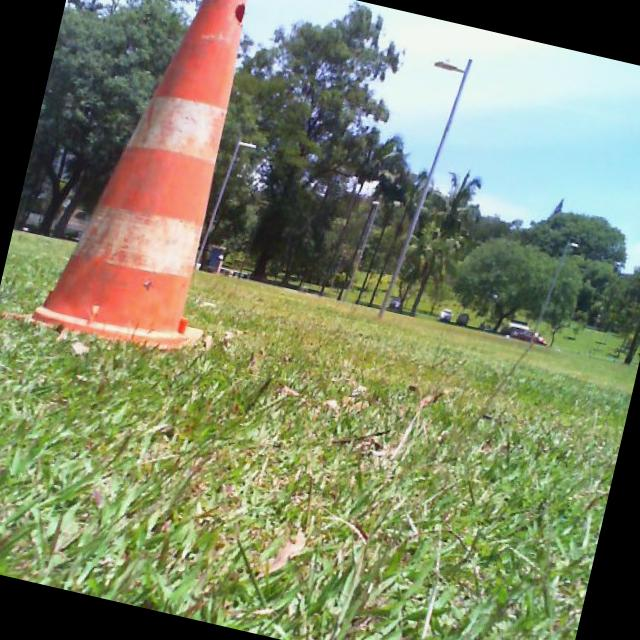Cone: (21, 0, 283, 360)
